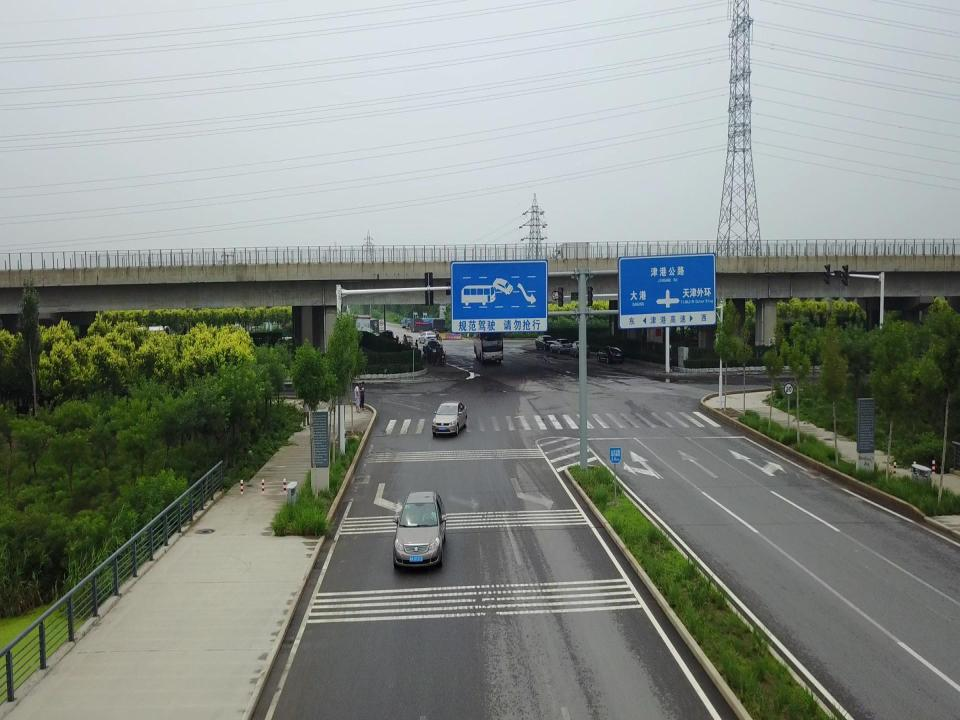bus: (474, 329, 506, 364)
car: (392, 491, 448, 568), (431, 401, 467, 435), (597, 346, 625, 364), (569, 341, 590, 358), (550, 339, 572, 354), (535, 335, 555, 351), (423, 340, 443, 355), (419, 332, 437, 344)
truck: (552, 242, 590, 263), (374, 330, 394, 346)
